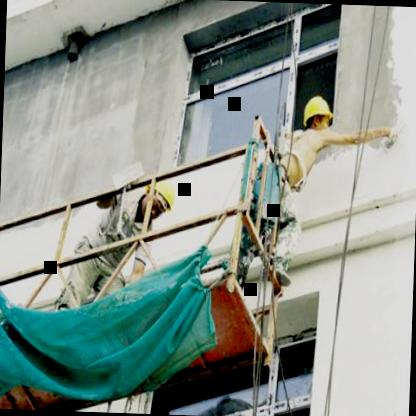helmet: (138, 176, 177, 224), (300, 95, 334, 143)
